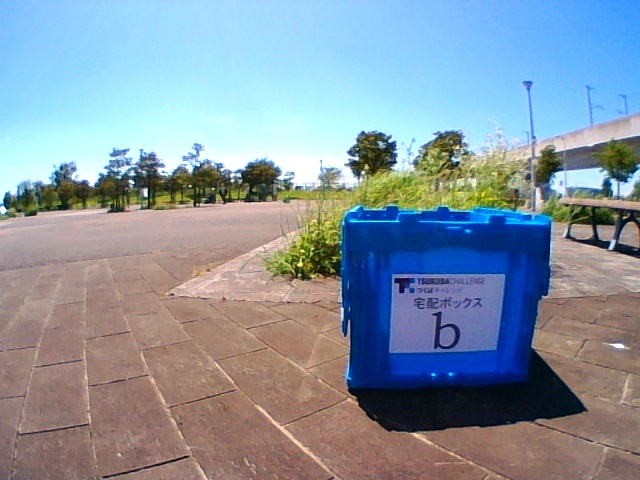blue_box: (353, 209, 523, 381)
tag_b: (392, 275, 495, 350)
